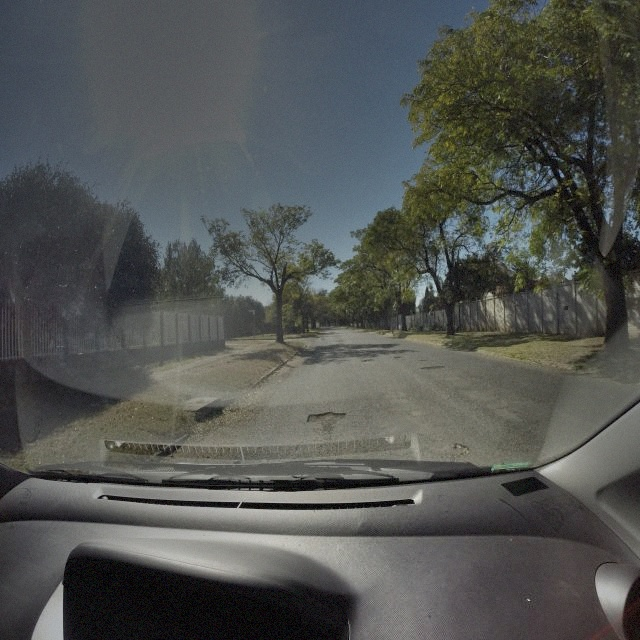pothole: (306, 409, 347, 424), (453, 438, 469, 454), (420, 364, 445, 371), (362, 357, 373, 363), (394, 356, 402, 362)
